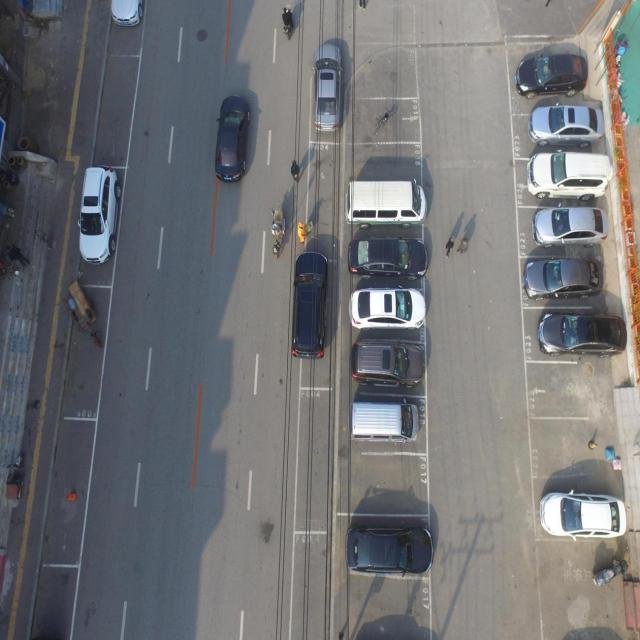p3rson: (4, 244, 30, 266), (296, 222, 306, 244), (290, 158, 298, 184), (456, 237, 468, 254), (445, 236, 454, 258), (544, 0, 558, 7), (357, 0, 367, 9)
